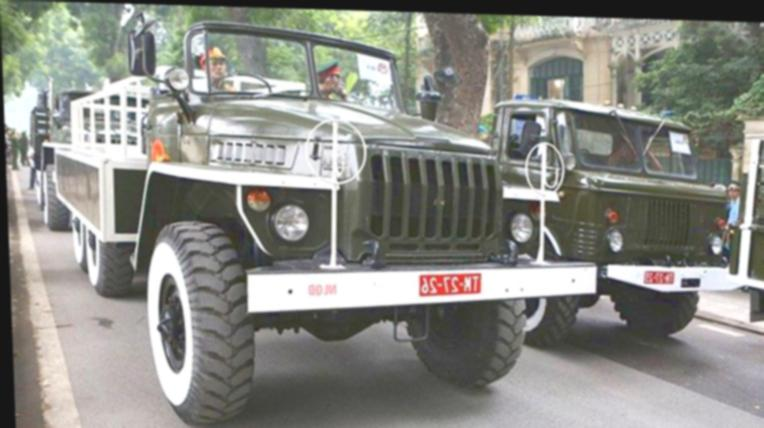License_Plate: (415, 270, 485, 303), (640, 269, 677, 286)
